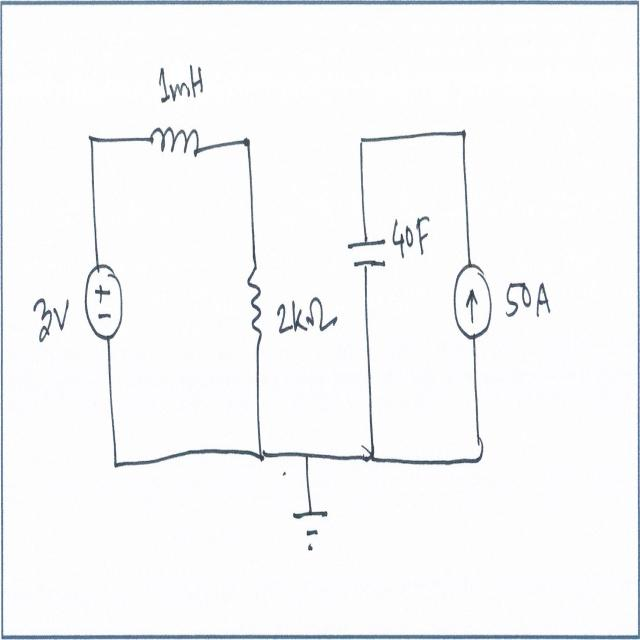capacitor: (345, 223, 389, 285)
current_source: (451, 261, 494, 348)
ground: (290, 498, 332, 553)
inductor: (148, 122, 203, 168)
resistor: (241, 264, 267, 345)
voltage_source: (82, 264, 129, 342)
